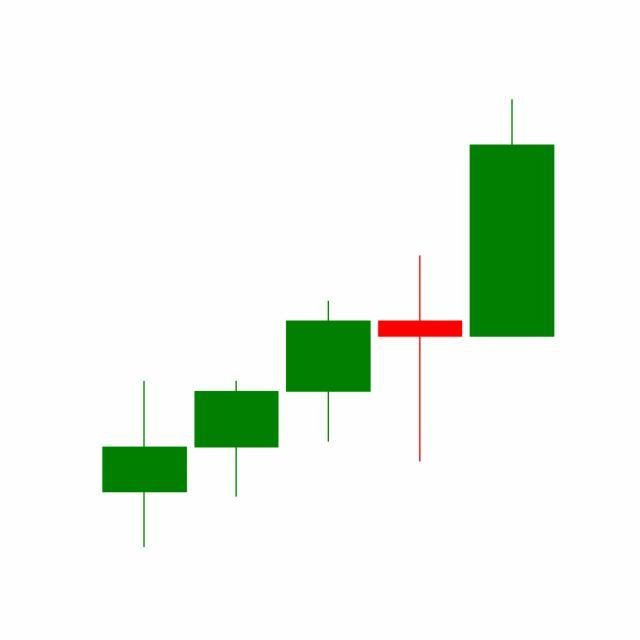Spinning Top: (374, 253, 468, 465)
